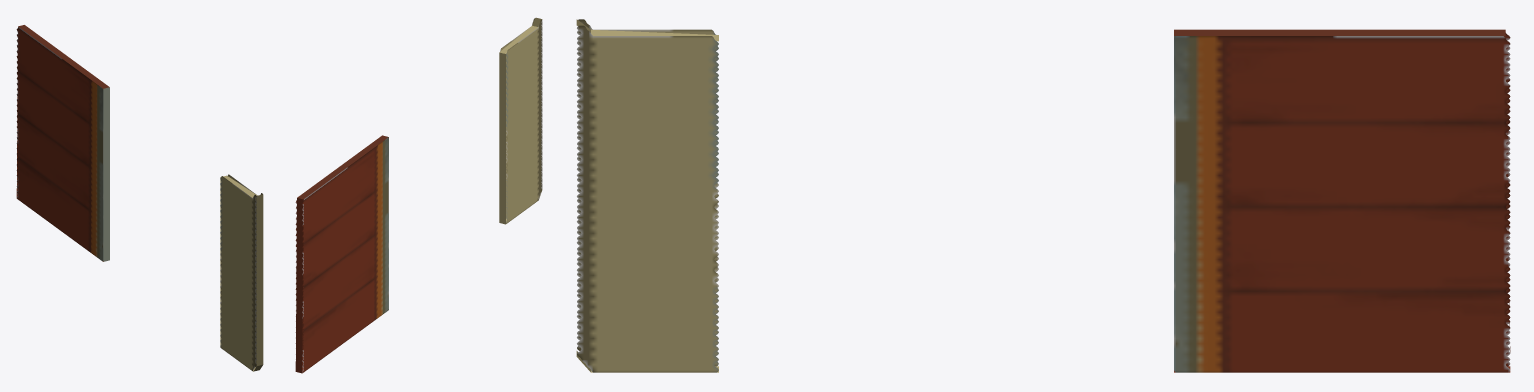
The model's file is pz_native_location_restaurant_spiffos_01_32_frame.obj.
3 renders of one model, left to right at view 1: azimuth 30°, elevation 25°; view 2: azimuth 150°, elevation 25°; view 3: azimuth 270°, elevation 25°, orthographic. The views are drawn at different scales.
Parts seen in each view (by area): view 1: pz_native_location_restaurant_spiffos_01_32_frame; view 2: pz_native_location_restaurant_spiffos_01_32_frame; view 3: pz_native_location_restaurant_spiffos_01_32_frame.
Part boxes in pixels (bbox=[...]): pz_native_location_restaurant_spiffos_01_32_frame: bbox=[16, 25, 263, 371]; pz_native_location_restaurant_spiffos_01_32_frame: bbox=[295, 17, 542, 373]; pz_native_location_restaurant_spiffos_01_32_frame: bbox=[576, 19, 1510, 372].
Bounding box in the file's own units: 0.04 × 1.06 × 2.55.
Materials: 1 (1 with a texture image).
